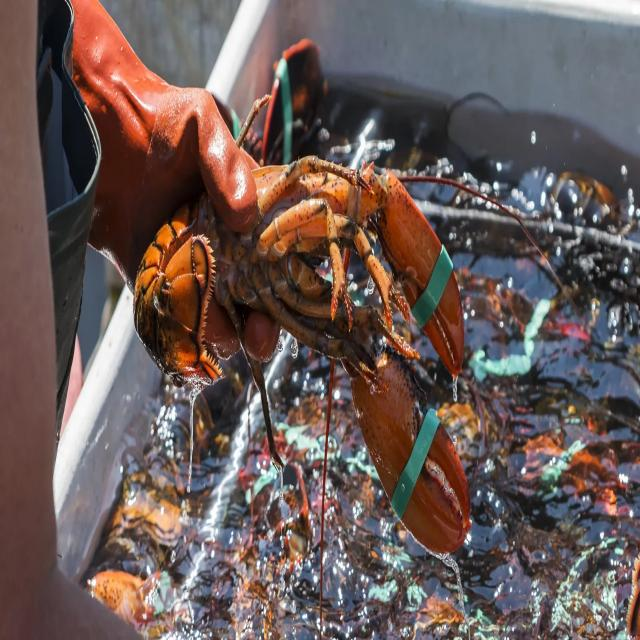Lobster: (134, 154, 489, 570), (240, 99, 268, 138), (321, 471, 325, 584)
